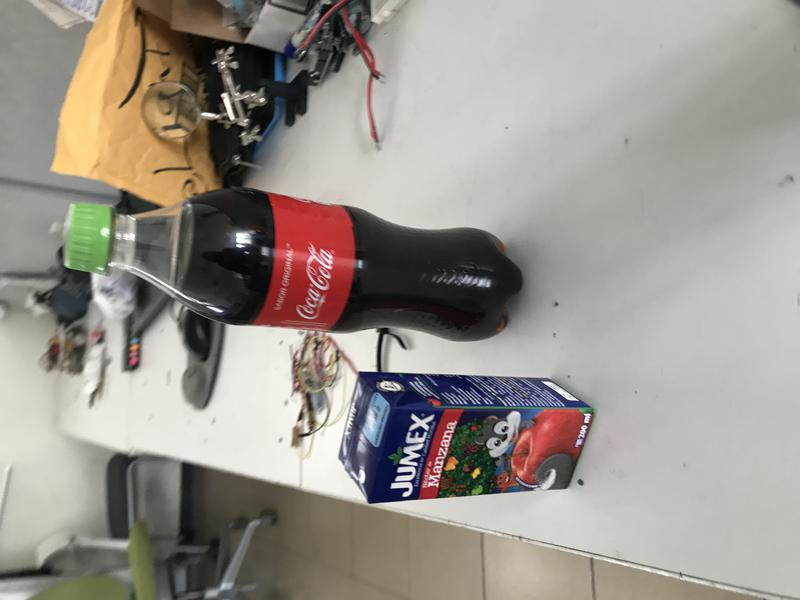coca_cola: (60, 187, 525, 342)
jumex_cajita: (338, 371, 595, 503)
